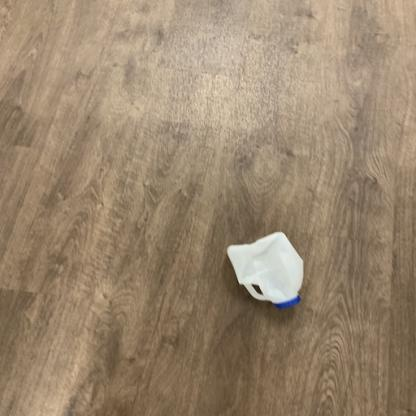trash: (225, 232, 312, 313)
